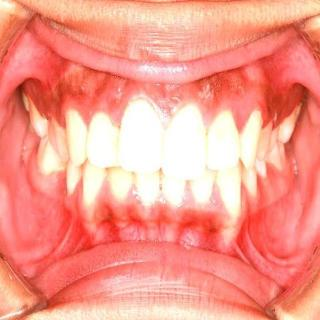Gum Swelling: (61, 178, 226, 225), (58, 85, 227, 128)
plaque: (99, 124, 128, 168), (62, 103, 86, 151), (240, 106, 262, 158), (42, 112, 66, 149), (25, 92, 46, 128), (278, 103, 299, 137), (261, 116, 279, 154), (152, 169, 172, 203), (122, 172, 142, 198)
